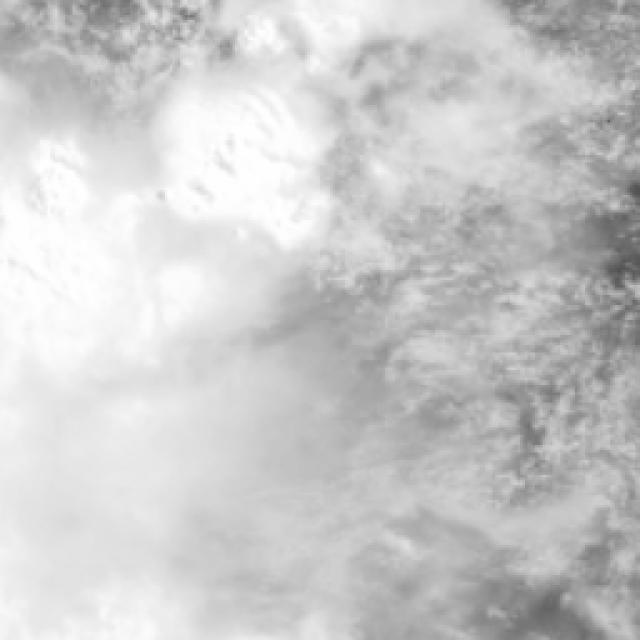CB: (0, 187, 270, 640)
